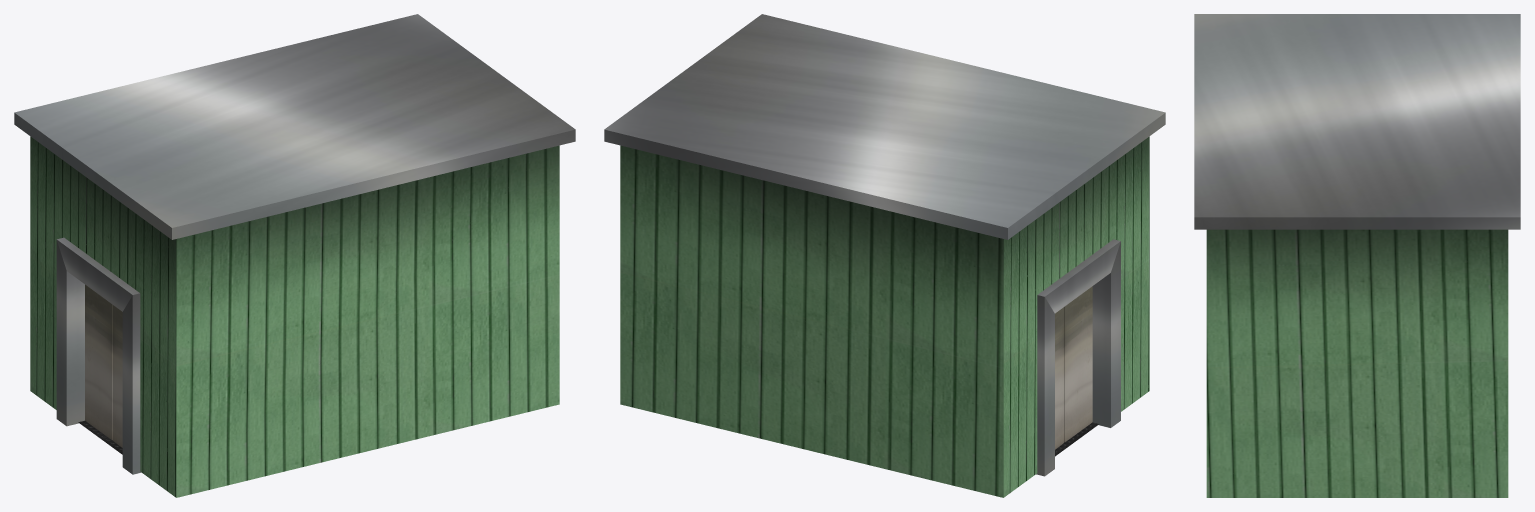
The model's file is AscensorFuera.fbx.
3 views of the same model, side by side, from view 1: azimuth 30°, elevation 25°; view 2: azimuth 150°, elevation 25°; view 3: azimuth 270°, elevation 25° (orthographic). The views are drawn at different scales.
Visible parts, largest first — view 1: Caja, MarcoAscensor, pCube8, pCube6; view 2: Caja, MarcoAscensor, pCube6, pCube8; view 3: Caja.
Boxes of the visible parts, bbox=[...] form: Caja: bbox=[14, 14, 575, 497]; MarcoAscensor: bbox=[56, 237, 141, 474]; pCube8: bbox=[85, 284, 112, 440]; pCube6: bbox=[113, 305, 122, 447]; Caja: bbox=[604, 14, 1165, 497]; MarcoAscensor: bbox=[1036, 239, 1120, 476]; pCube6: bbox=[1064, 286, 1092, 442]; pCube8: bbox=[1055, 307, 1063, 449]; Caja: bbox=[1194, 14, 1520, 497].
Bounding box in the file's own units: 88.96 × 58.58 × 60.26.
Materials: 1 (1 with a texture image).
